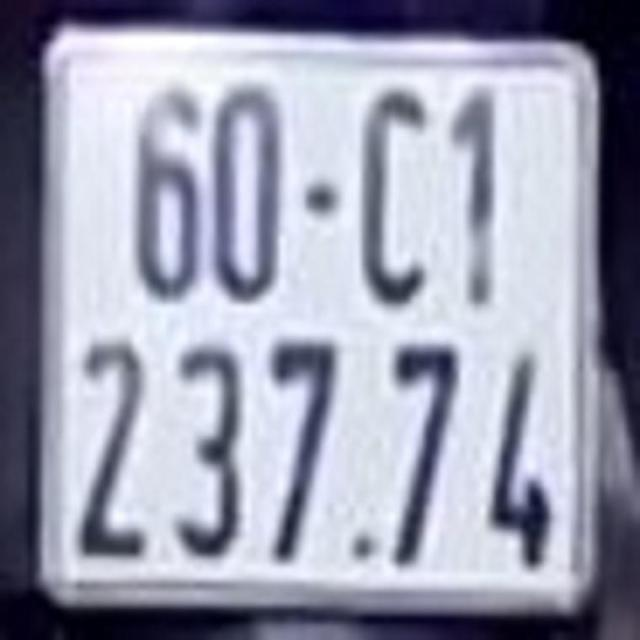0: (210, 92, 278, 300)
1: (447, 92, 499, 308)
2: (80, 346, 144, 559)
3: (178, 349, 233, 556)
4: (486, 341, 556, 564)
6: (137, 91, 202, 296)
7: (264, 341, 340, 558), (391, 340, 458, 562)
C: (362, 88, 426, 301)
